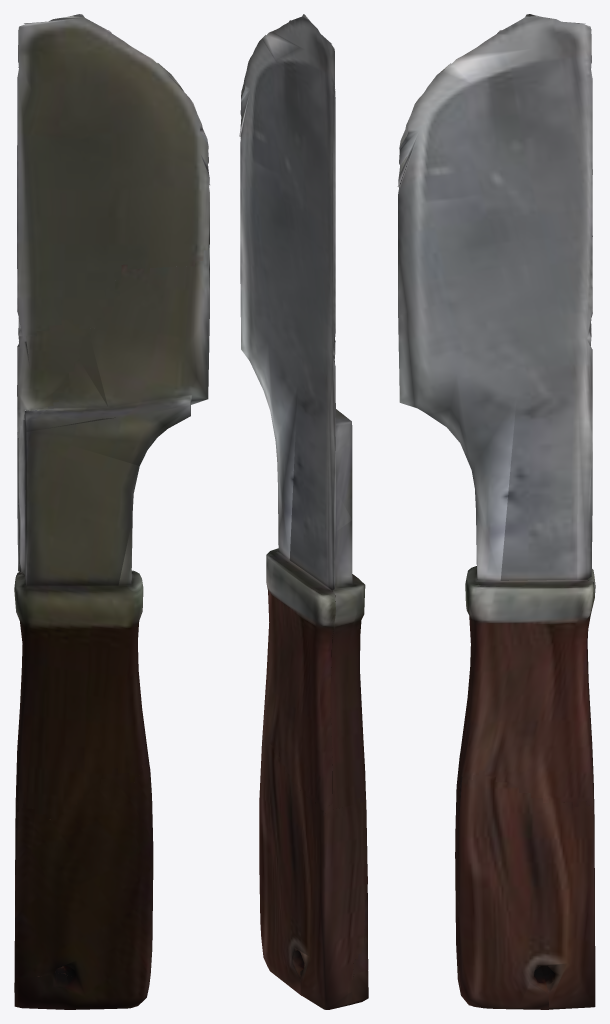
Rendered from weapon_golok.glb.
3 renders of one model, left to right at view 1: azimuth 90°, elevation 25°; view 2: azimuth 210°, elevation 25°; view 3: azimuth 270°, elevation 25°, orthographic.
Visible parts, largest first — view 1: weapon_golok; view 2: weapon_golok; view 3: weapon_golok.
Boxes of the visible parts, box(x1,y1,x2,y2) form: weapon_golok: box(14, 14, 209, 1009); weapon_golok: box(239, 14, 368, 1009); weapon_golok: box(397, 14, 595, 1009).
Size of the model in its own units: 0.0314 by 0.6 by 0.1089.
Materials: 1 (1 with a texture image).
